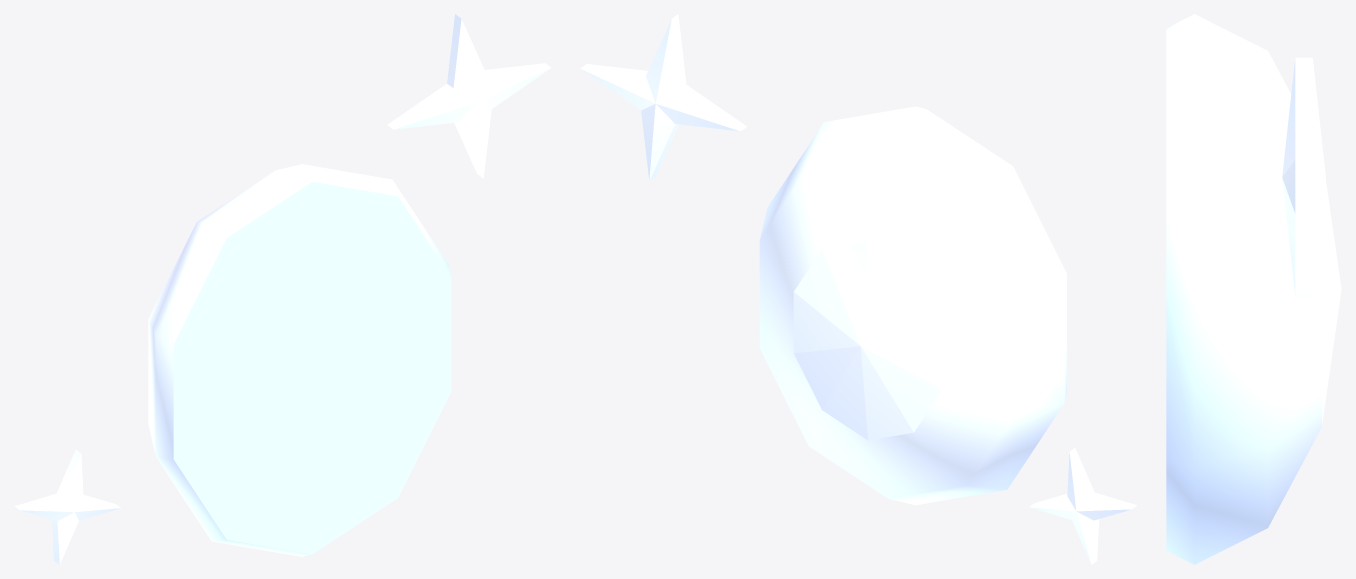
The model's file is gem_moonstone_low.glb.
The picture shows the model from 3 angles, left to right: view 1: azimuth 30°, elevation 25°; view 2: azimuth 150°, elevation 25°; view 3: azimuth 270°, elevation 25°; orthographic projection. The views are drawn at different scales.
Bounding box in the file's own units: 0.269 × 0.2216 × 0.056.
